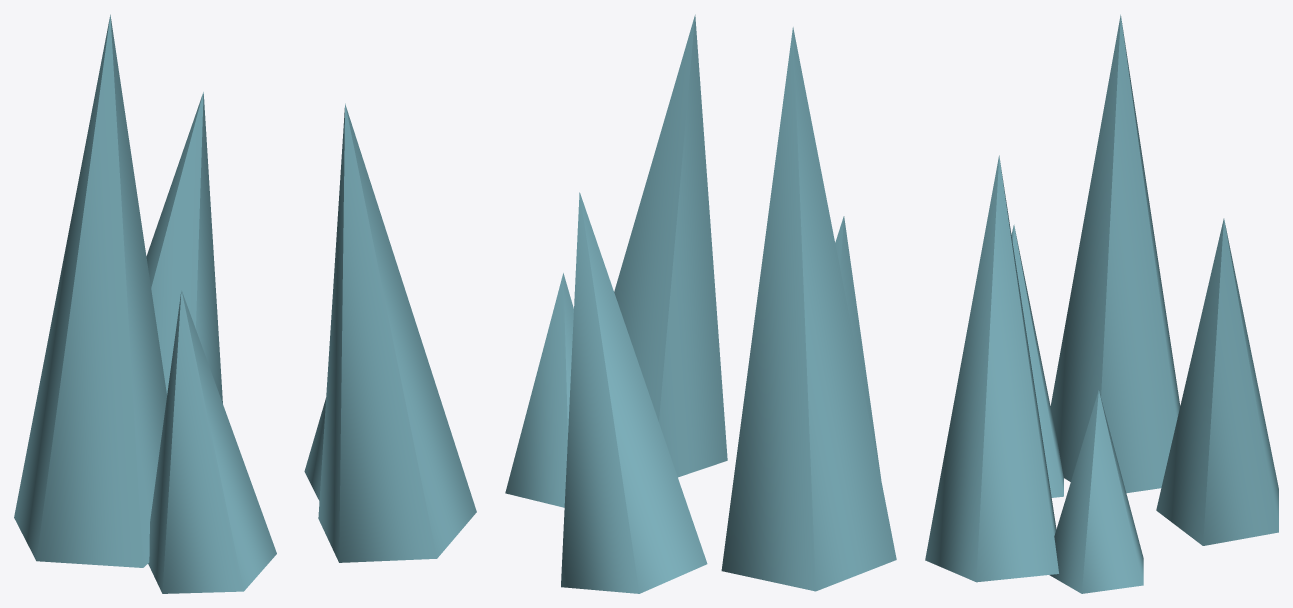
The model's file is ice_spires.glb.
3 renders of one model, left to right at view 1: azimuth 30°, elevation 25°; view 2: azimuth 150°, elevation 25°; view 3: azimuth 270°, elevation 25°, orthographic. The views are drawn at different scales.
Parts seen in each view (by area): view 1: ice_spires; view 2: ice_spires; view 3: ice_spires.
Boxes of the visible parts, x1,y1,x2,y2 form: ice_spires: (14, 14, 476, 593); ice_spires: (505, 14, 896, 593); ice_spires: (925, 14, 1278, 593).
Size of the model in its own units: 1.53 by 2.03 by 1.41.
